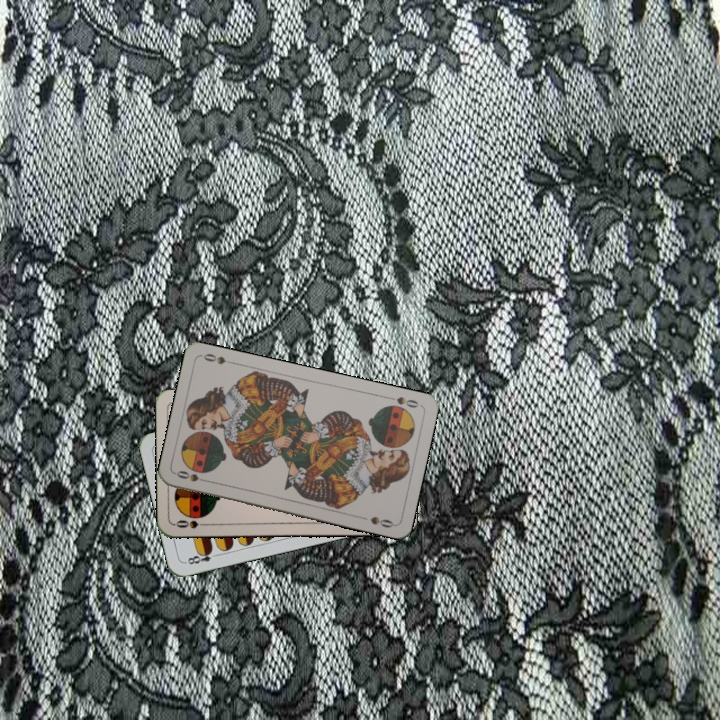E8: (181, 545, 222, 567)
SO: (172, 466, 212, 485), (383, 392, 423, 411), (172, 516, 212, 531)
